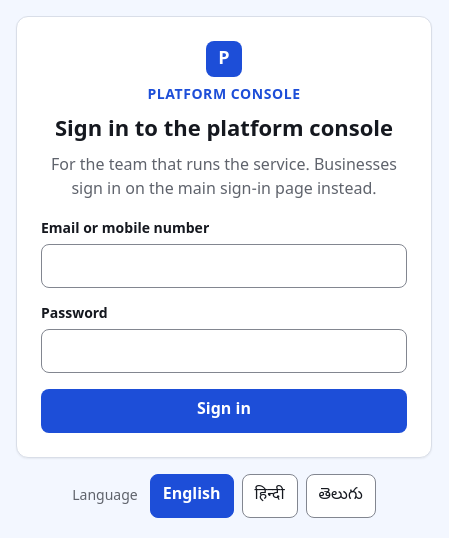
it: choosing a language › is on the platform console’s sign-in page too
Click the button "తెలుగు" at (341, 496), box left=306, top=474, right=376, bottom=518
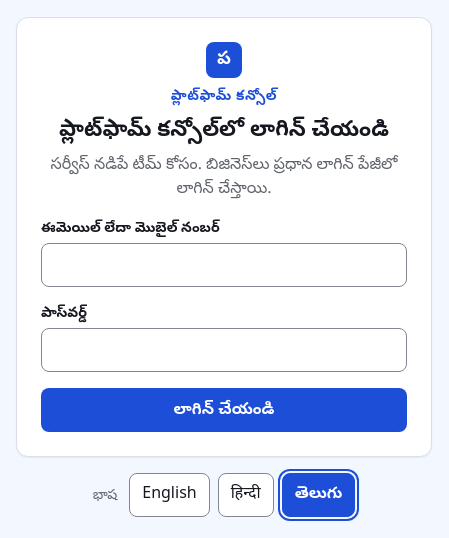
Expected: the heading "ప్లాట్‌ఫామ్ కన్సోల్‌లో లాగిన్ చేయండి" is shown, left=59, top=114, right=389, bottom=146
